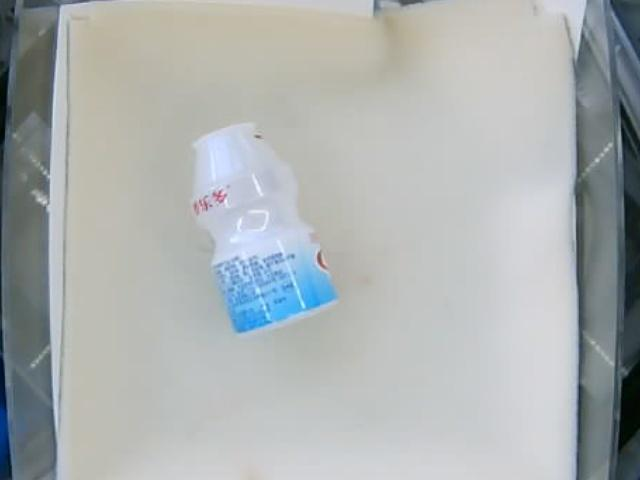Bottle: (193, 122, 340, 337)
